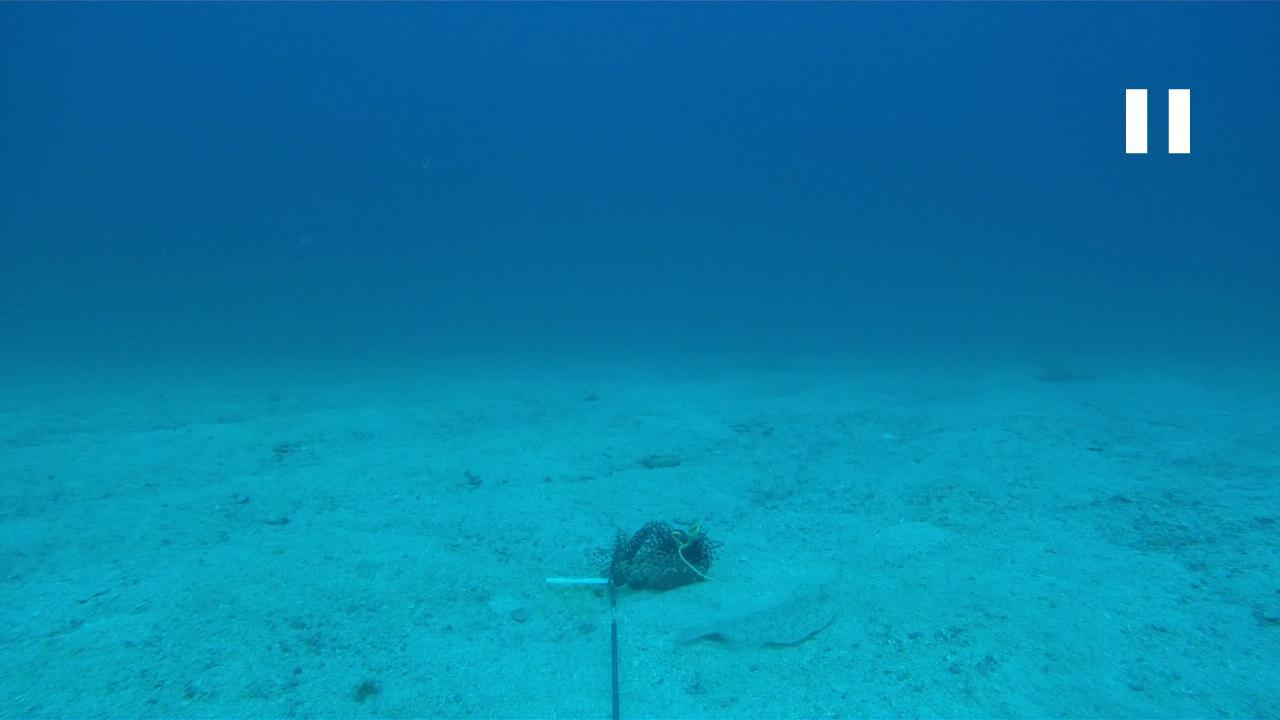bothus: (668, 574, 842, 648)
